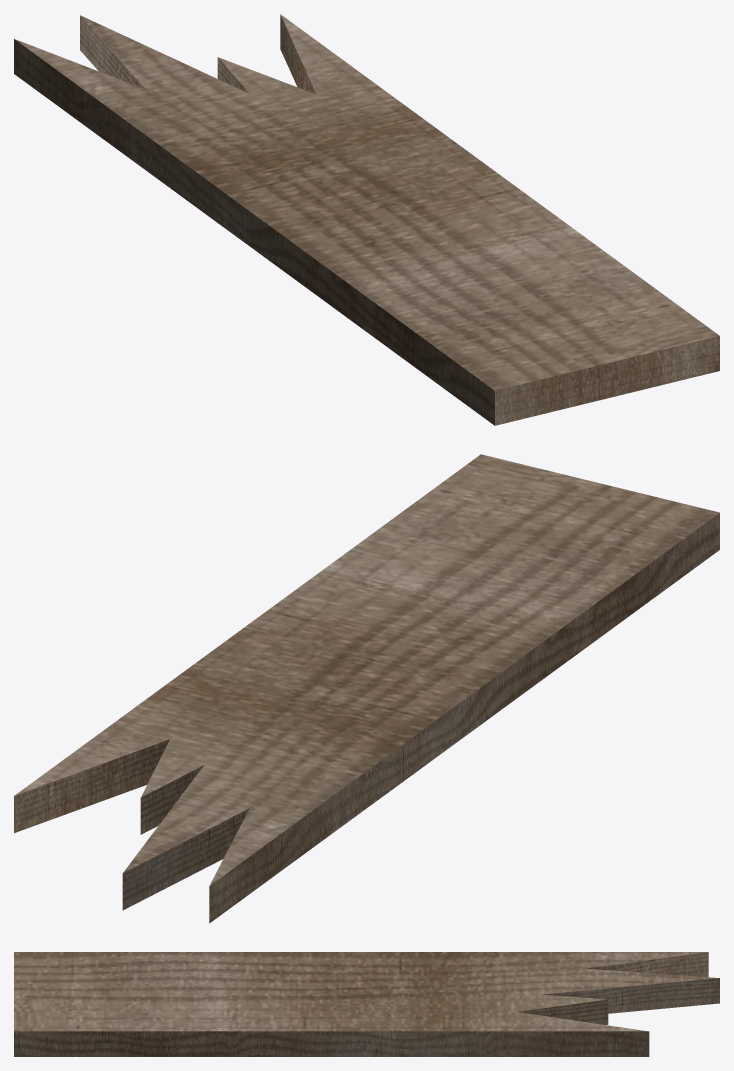
Rendered from DeckWood2.fbx.
3 views of the same model, one above another, from view 1: azimuth 30°, elevation 25°; view 2: azimuth 150°, elevation 25°; view 3: azimuth 270°, elevation 25° (orthographic). The views are drawn at different scales.
Parts seen in each view (by area): view 1: Cube.004; view 2: Cube.004; view 3: Cube.004.
Boxes of the visible parts, <box> form: Cube.004: <box>14,14,719,425</box>; Cube.004: <box>14,454,719,923</box>; Cube.004: <box>14,952,719,1056</box>.
Size of the model in its own units: 0.1846 by 0.0275 by 0.6943.
